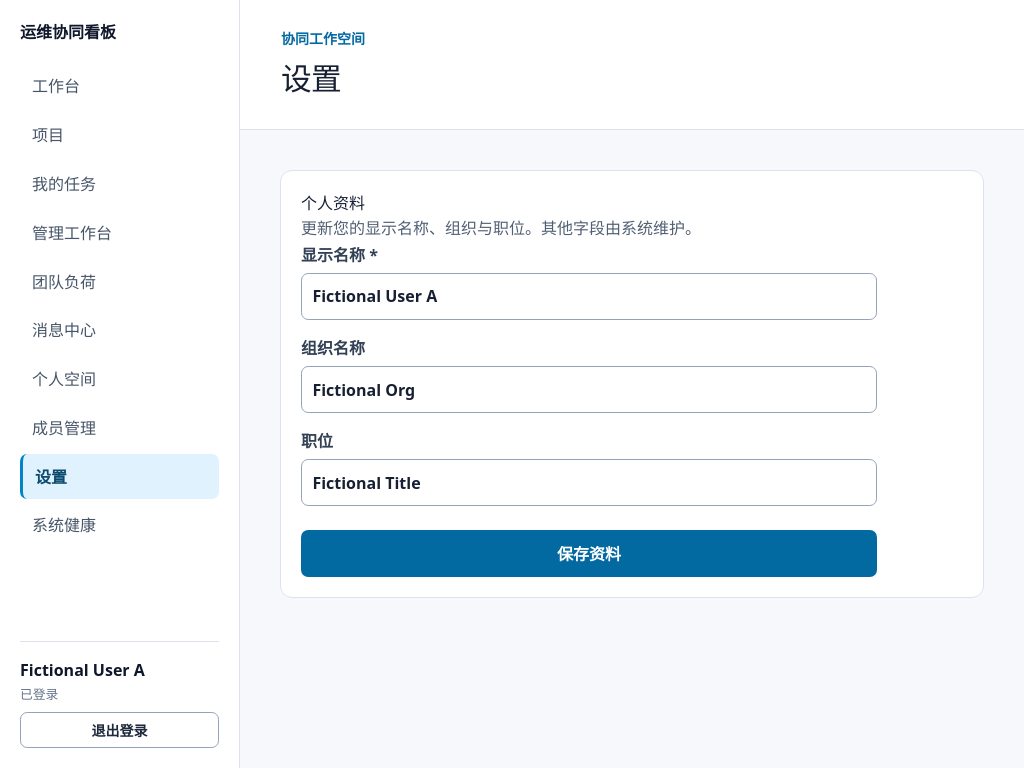
Test case: 个人资料页 › 显示当前用户资料并可保存
The image size is (1024, 768).
Check: the field labelled "组织名称" holds "Fictional Org", box [301,366,877,413]
Check: the field labelled "职位" holds "Fictional Title", box [301,459,877,506]
Replace the text in the field labelled "显示名称 *" with "Updated Name" at (589, 296), box [301,273,877,320]
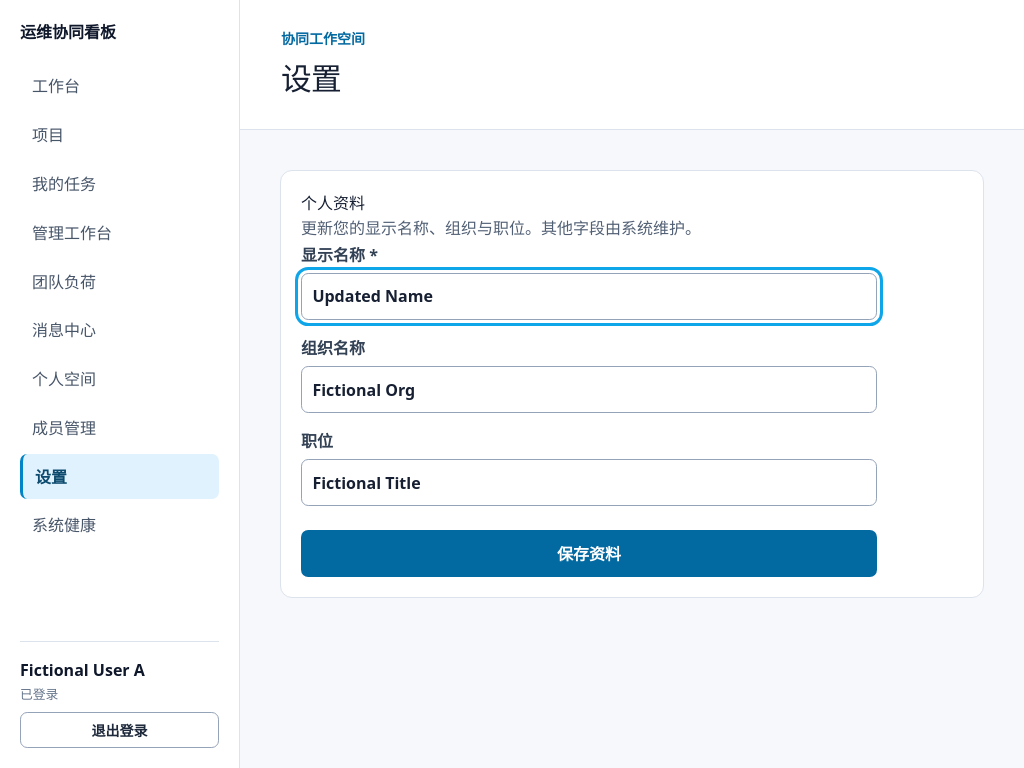
Click the button "保存资料".
click(589, 554)  # box [301,530,877,577]
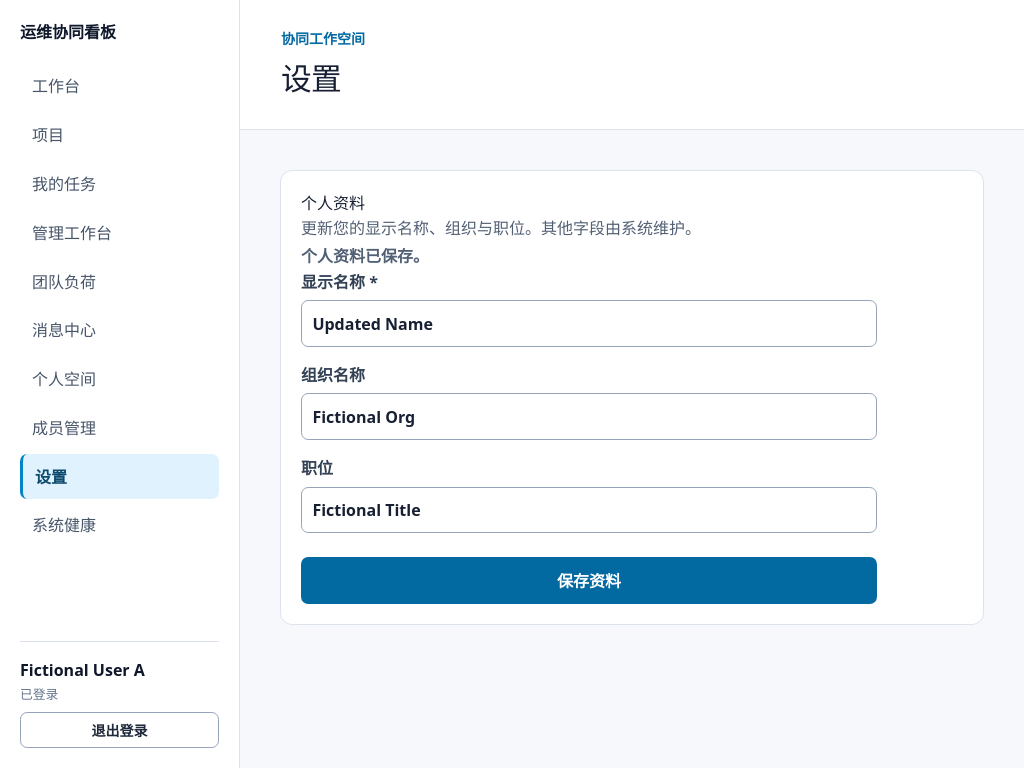
Check: the text "个人资料已保存。" is shown, box [301,245,429,267]
